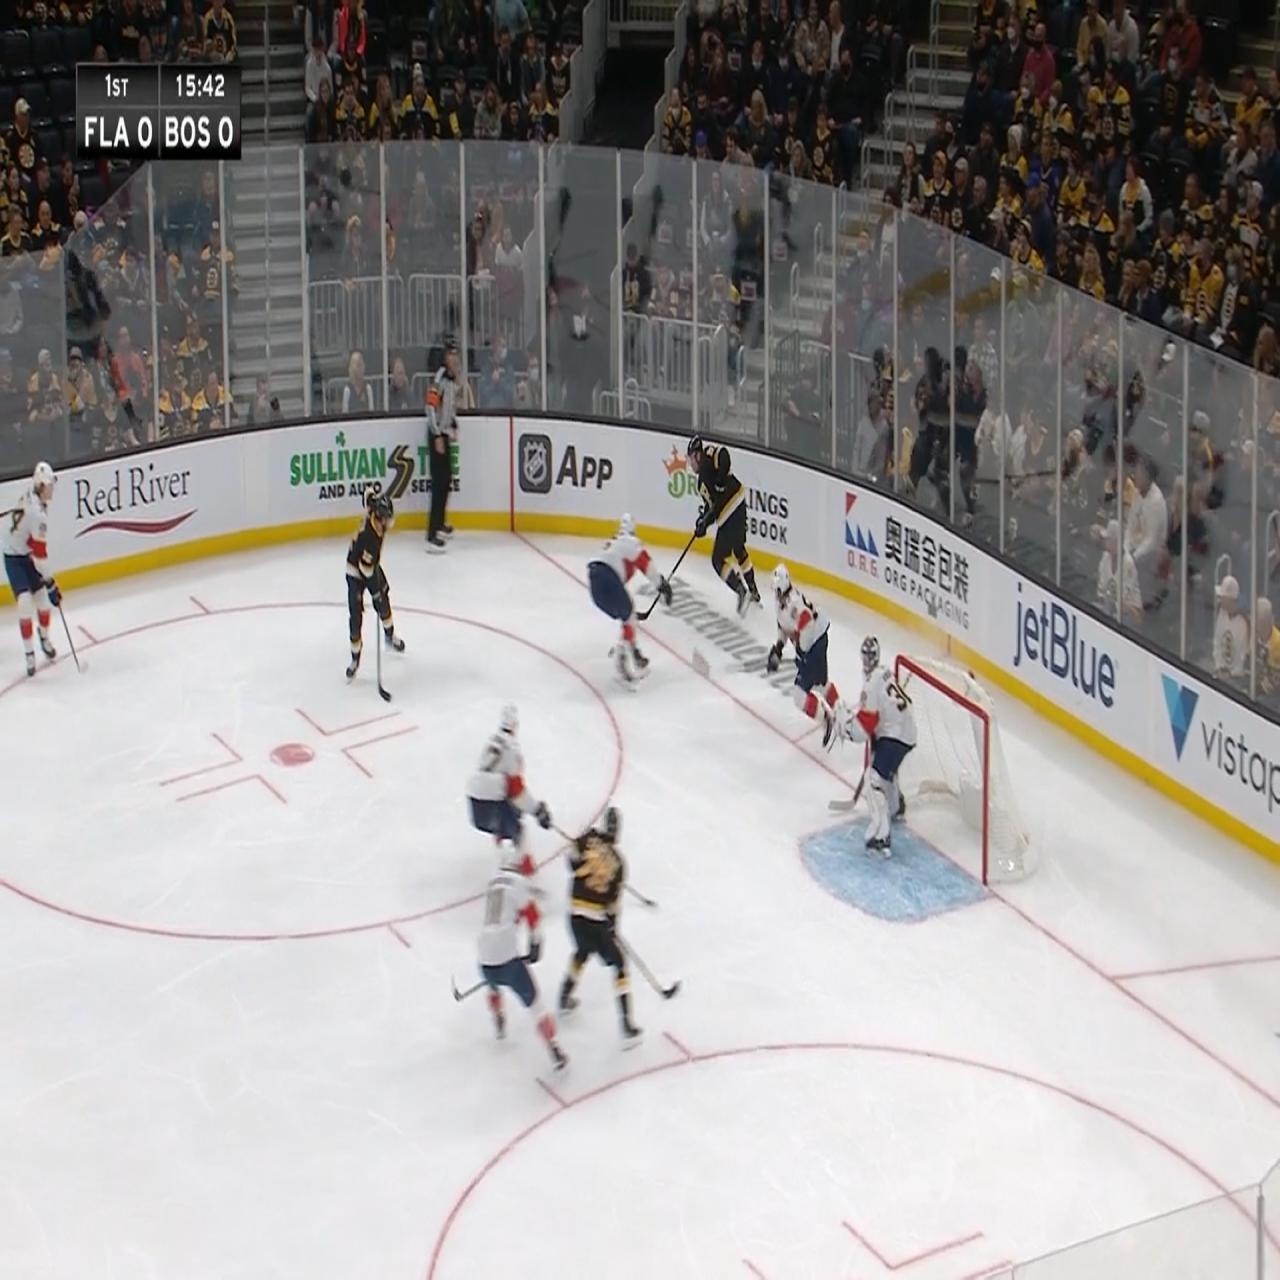Ad: (635, 554, 816, 721), (1156, 659, 1280, 851), (843, 482, 971, 658), (1014, 572, 1121, 749), (663, 422, 798, 557), (288, 416, 463, 517), (72, 436, 204, 568), (515, 404, 613, 517)
